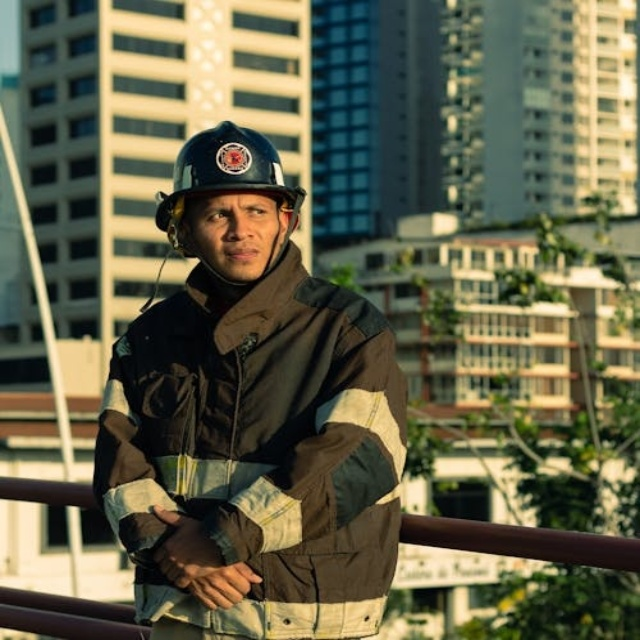Sin_gafas: (197, 201, 270, 226)
Sin_guantes: (145, 503, 265, 609)
Sin_mascara: (215, 243, 265, 271)
